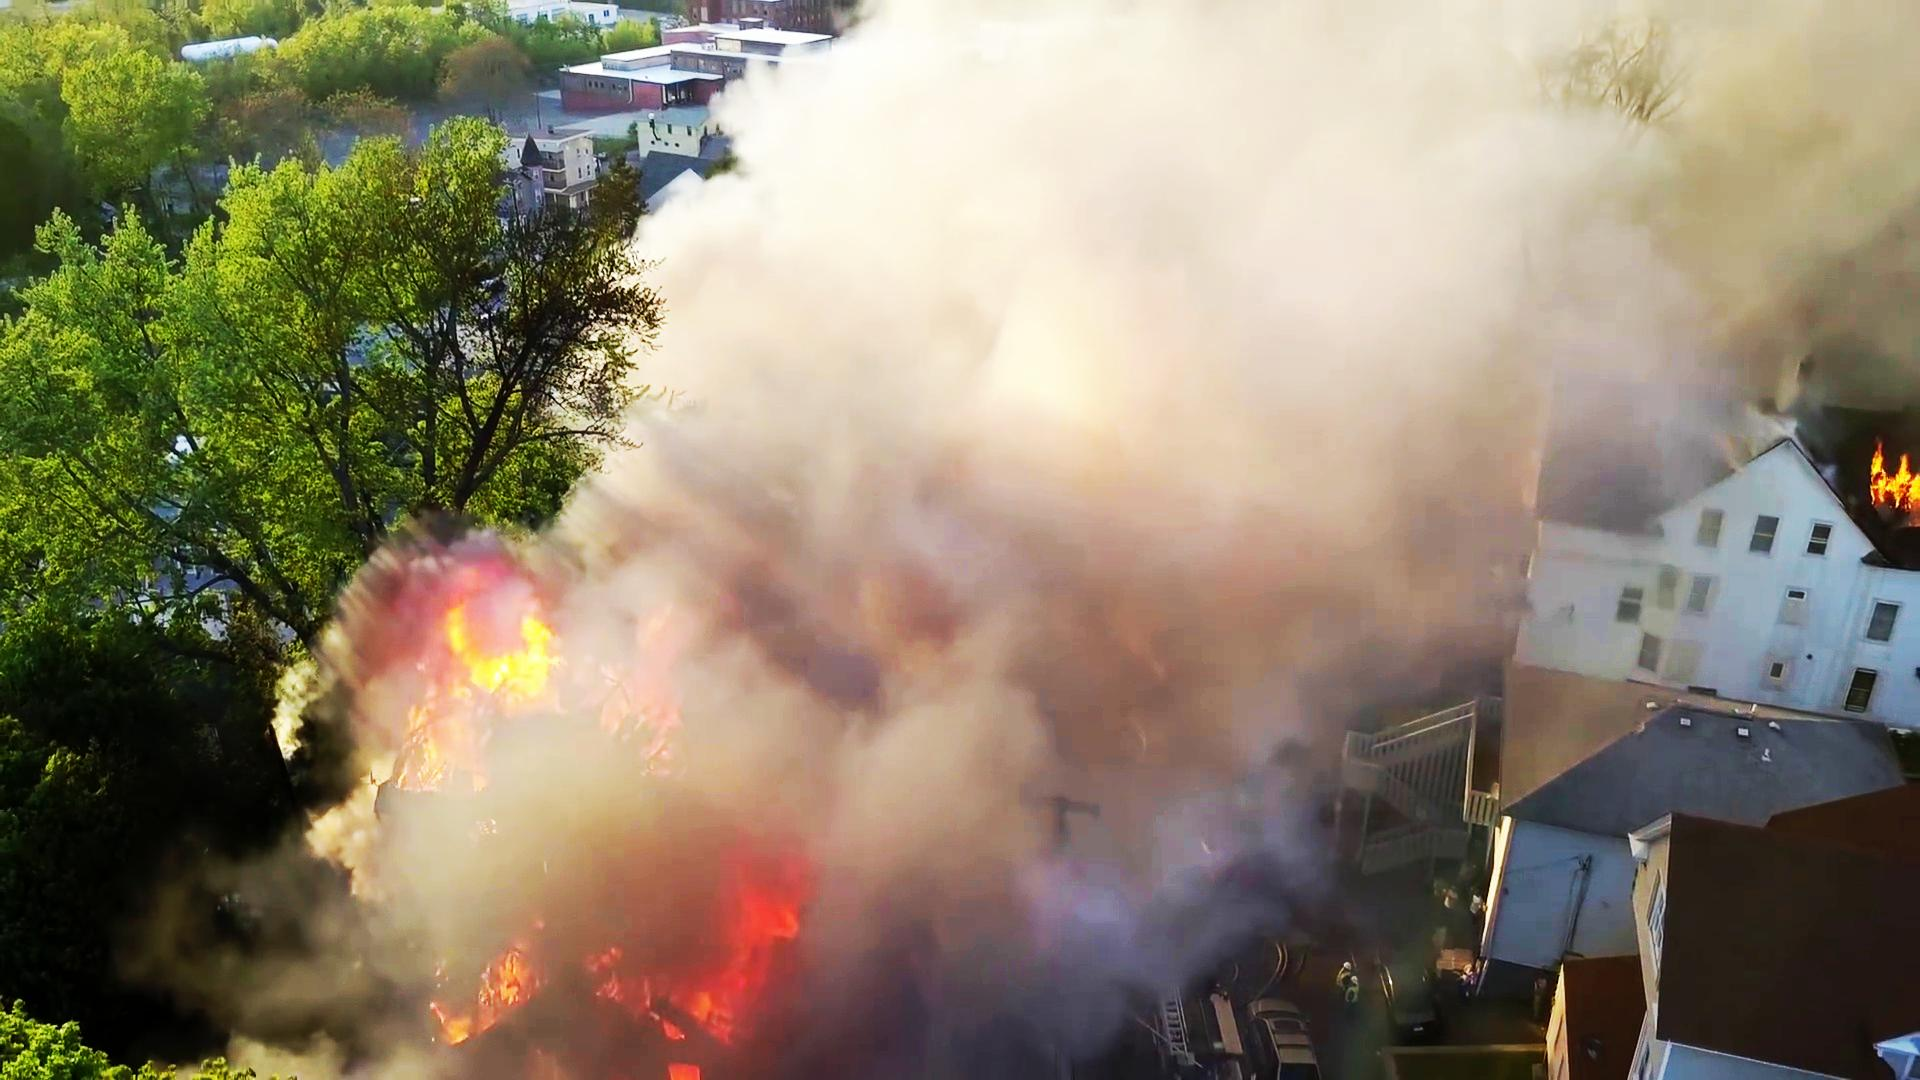fire: (435, 560, 566, 708), (1833, 433, 1920, 530)
smoke: (884, 88, 1188, 938)
